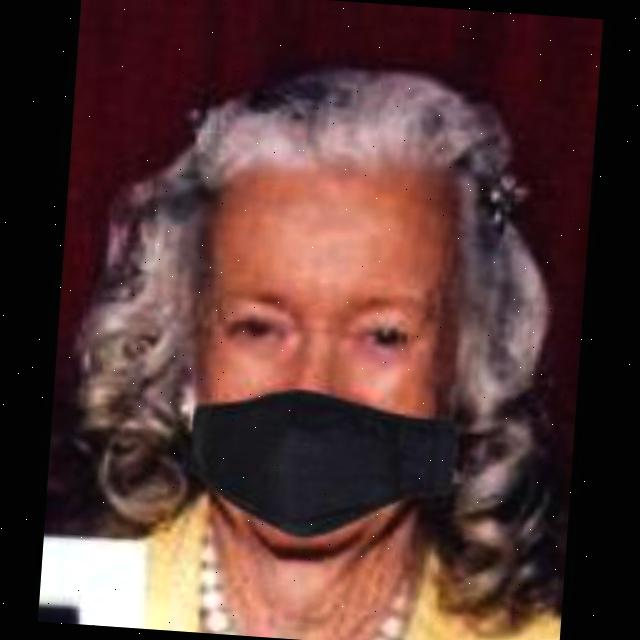suspicion: (147, 127, 527, 570)
